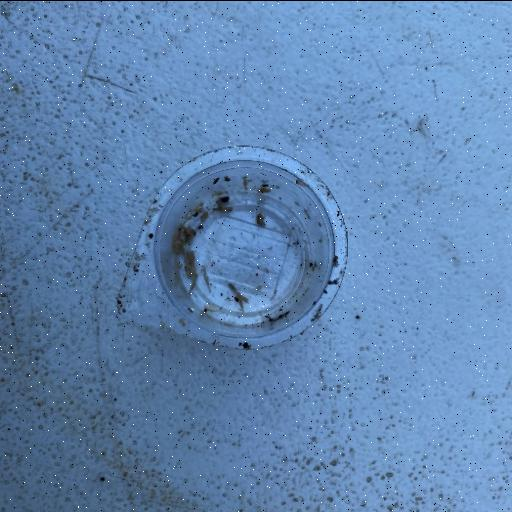Plastic: (131, 142, 350, 352)
